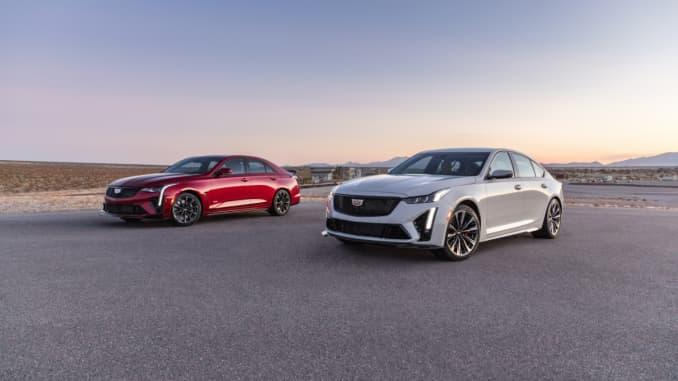car: (320, 145, 564, 261), (101, 152, 306, 235)
